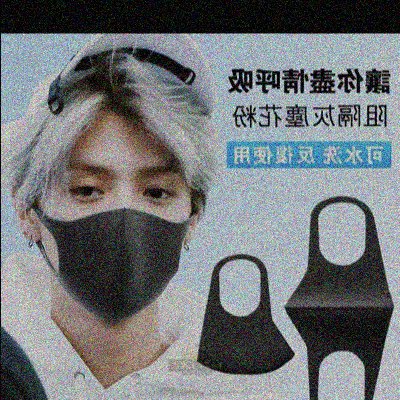with_mask: (39, 155, 193, 324)
